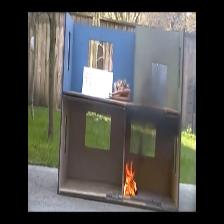fire: (124, 162, 137, 194)
